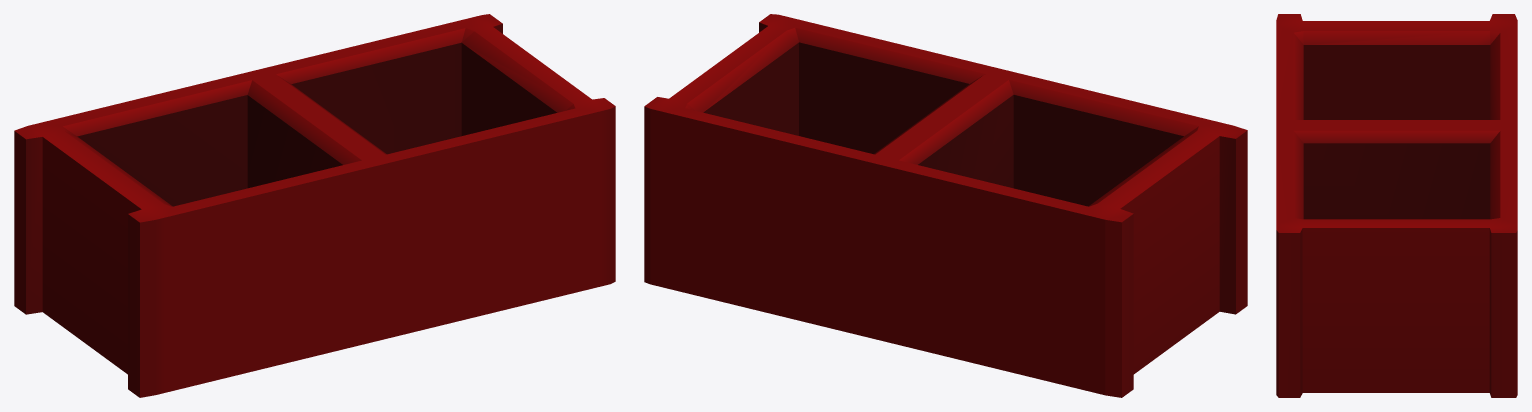
File: CinderBlock.glb
The picture shows the model from 3 angles, left to right: view 1: azimuth 30°, elevation 25°; view 2: azimuth 150°, elevation 25°; view 3: azimuth 270°, elevation 25°; orthographic projection. The views are drawn at different scales.
Visible parts, largest first — view 1: CinderBlock; view 2: CinderBlock; view 3: CinderBlock.
Boxes of the visible parts, x1,y1,x2,y2 form: CinderBlock: (14,14,615,397); CinderBlock: (644,14,1247,397); CinderBlock: (1276,14,1517,397).
Bounding box in the file's own units: 2.99 × 1.05 × 1.4.
